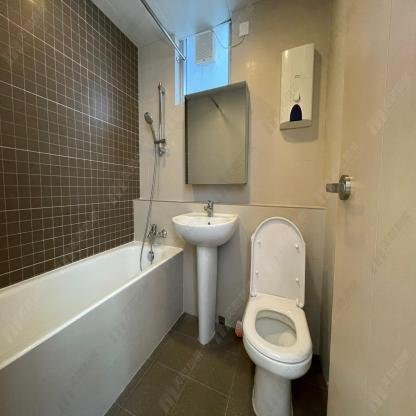Bathtub: (0, 242, 183, 416)
Exhaust Fan: (191, 26, 216, 65)
Toilet: (242, 215, 309, 416)
Water Heater: (279, 43, 317, 131)
